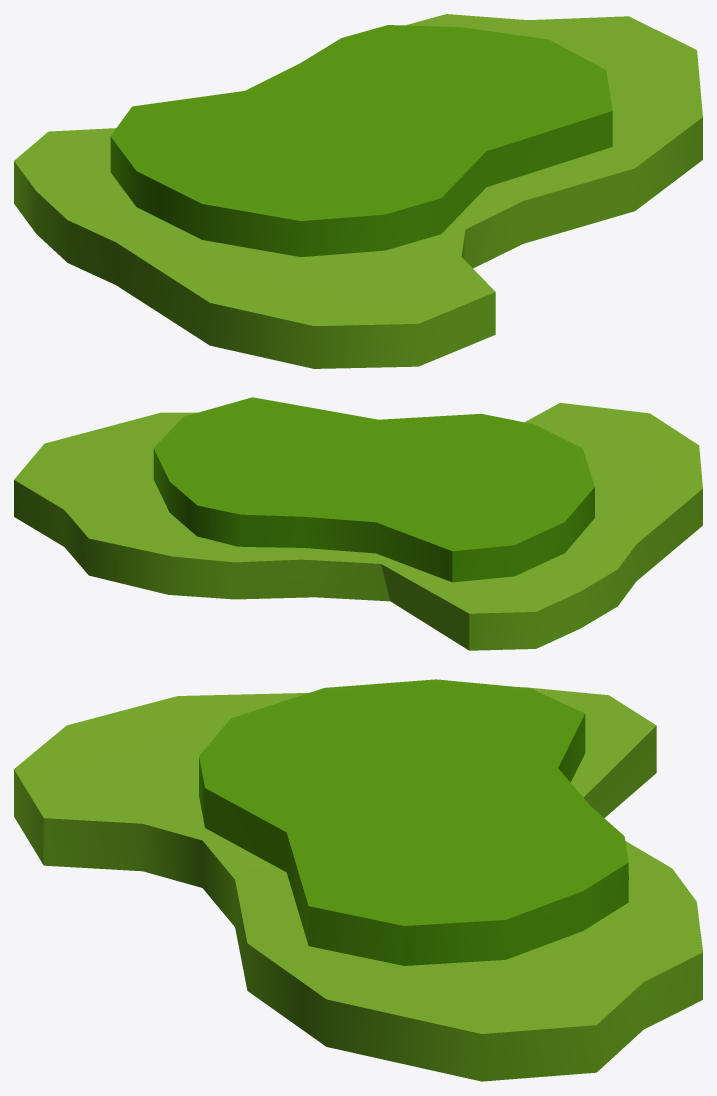
Rendered from SM_ME_Hill_04.fbx.
The picture shows the model from 3 angles, top to bottom: view 1: azimuth 30°, elevation 25°; view 2: azimuth 150°, elevation 25°; view 3: azimuth 270°, elevation 25°; orthographic projection. The views are drawn at different scales.
Parts seen in each view (by area): view 1: Hill4; view 2: Hill4; view 3: Hill4.
Boxes of the visible parts, <box> form: Hill4: <box>14,14,702,368</box>; Hill4: <box>14,397,702,650</box>; Hill4: <box>14,679,702,1081</box>.
Bounding box in the file's own units: 316 × 36.82 × 263.
